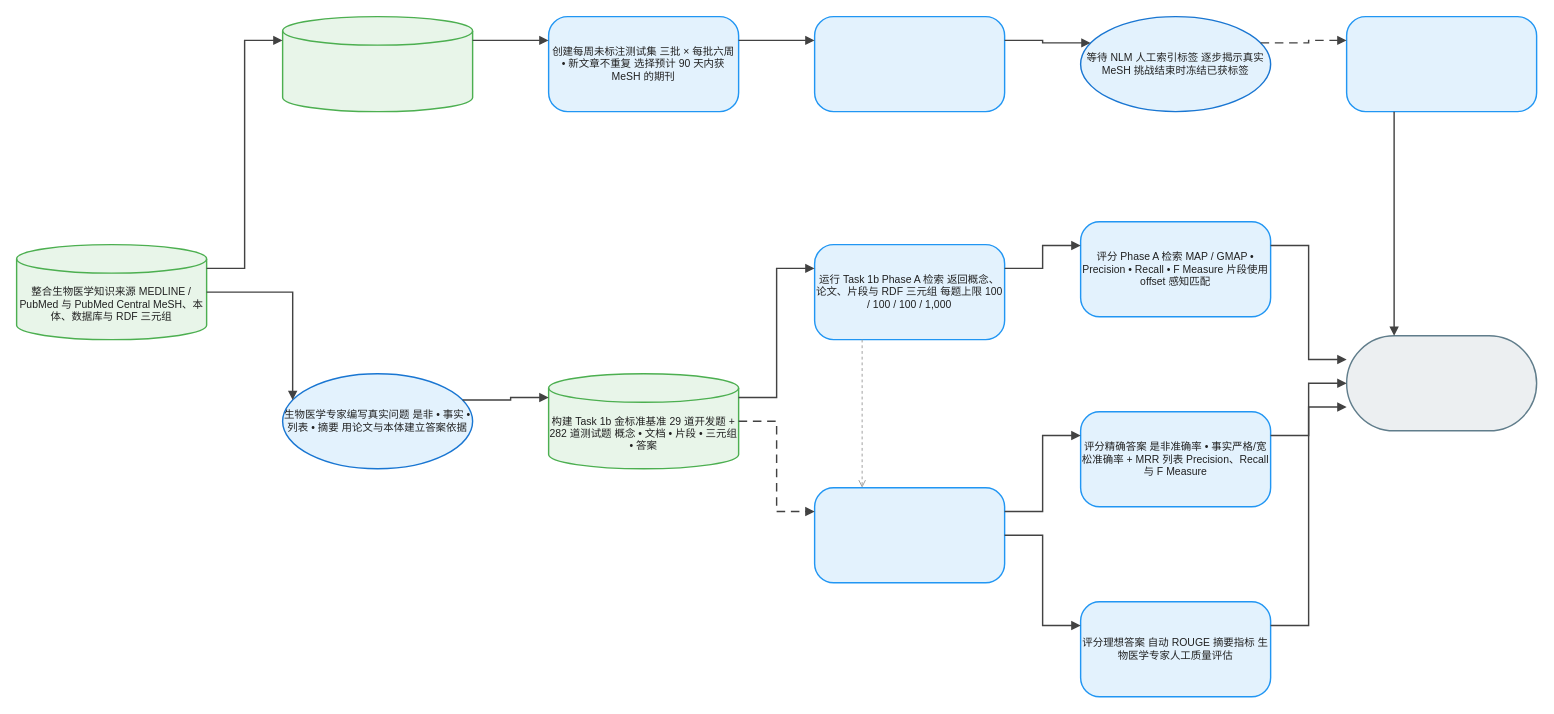
Some shapes in this 1554 by 714 pixel diagram are drawn without their labels. The shapes that lost their labels are listed below. From the top down, each one's centre as x and y in pixels, then its label:
At pixel 377 63: "构建 Task 1a 训练数据 标题 + 摘要 + 已有 MeSH 标签 索引日期早于 2013 年 3 月 1 日".
At pixel 909 63: "运行在线语义索引 21 小时内预测 MeSH 标题 提交时不可见人工标签".
At pixel 1441 63: "评分 Task 1a 分类 平面 Micro-F1 分层最低公共祖先 F Measure".
At pixel 1441 383: "发布 BioASQ 挑战结果 语义索引与问答榜单 公开数据、评测服务、运行结果与基线".
At pixel 909 535: "运行 Task 1b Phase B 作答 提供金标准 Phase-A 证据 输出精确答案和不超过 200 词的理想摘要".
